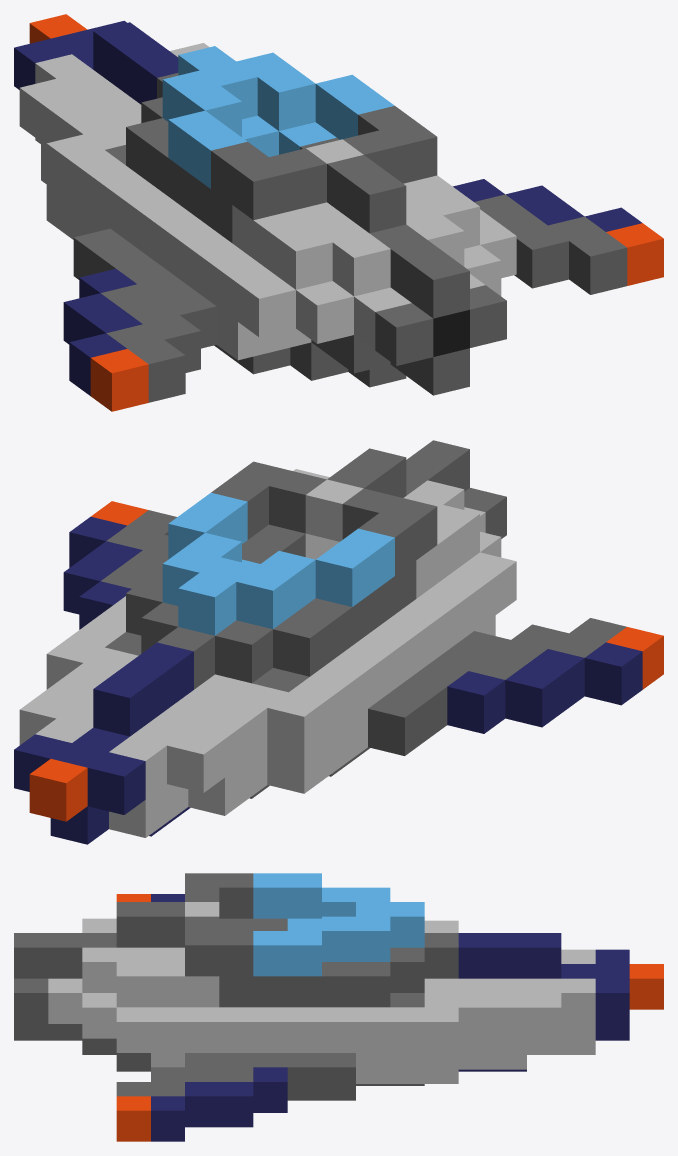
Rendered from speeder_4.glb.
The picture shows the model from 3 angles, top to bottom: view 1: azimuth 30°, elevation 25°; view 2: azimuth 150°, elevation 25°; view 3: azimuth 270°, elevation 25°; orthographic projection. The views are drawn at different scales.
Size of the model in its own units: 15 by 5 by 19.
